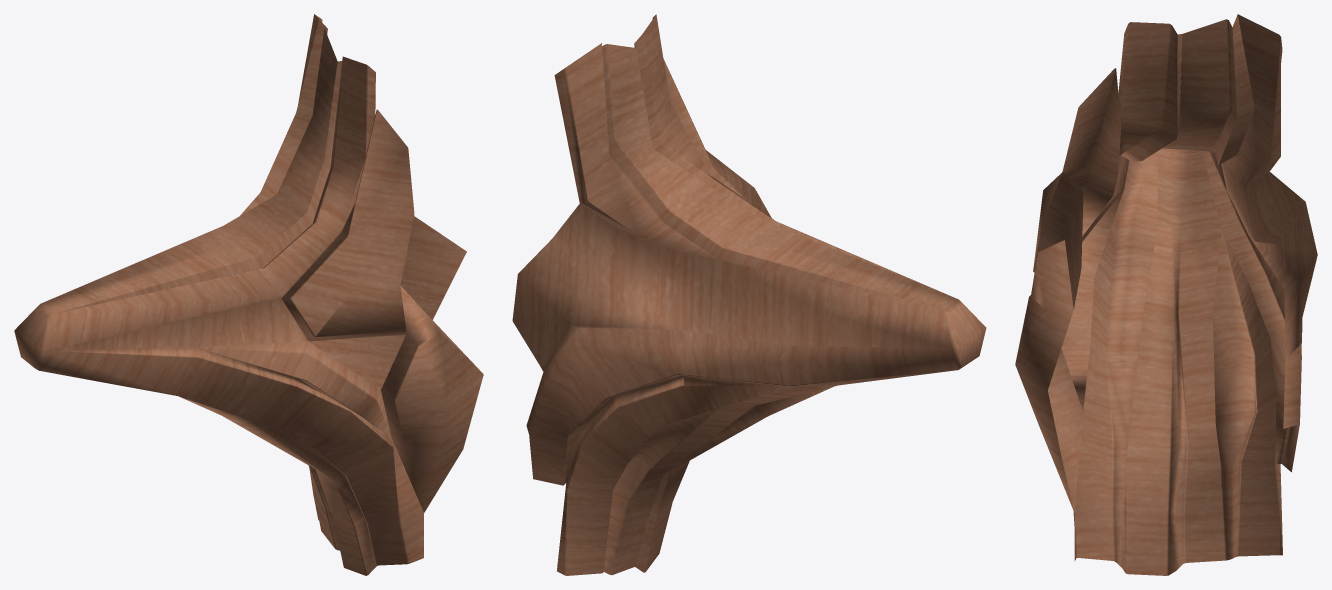
File: Geonosis_Pillar01_Spike.fbx
3 renders of one model, left to right at view 1: azimuth 30°, elevation 25°; view 2: azimuth 150°, elevation 25°; view 3: azimuth 270°, elevation 25°, orthographic. The views are drawn at different scales.
Parts seen in each view (by area): view 1: Geonosis_Pillar01_Spike; view 2: Geonosis_Pillar01_Spike; view 3: Geonosis_Pillar01_Spike.
Boxes of the visible parts, <box> form: Geonosis_Pillar01_Spike: <box>14,14,483,575</box>; Geonosis_Pillar01_Spike: <box>512,14,986,575</box>; Geonosis_Pillar01_Spike: <box>1015,14,1317,575</box>.
Bounding box in the file's own units: 296 × 369 × 178.
